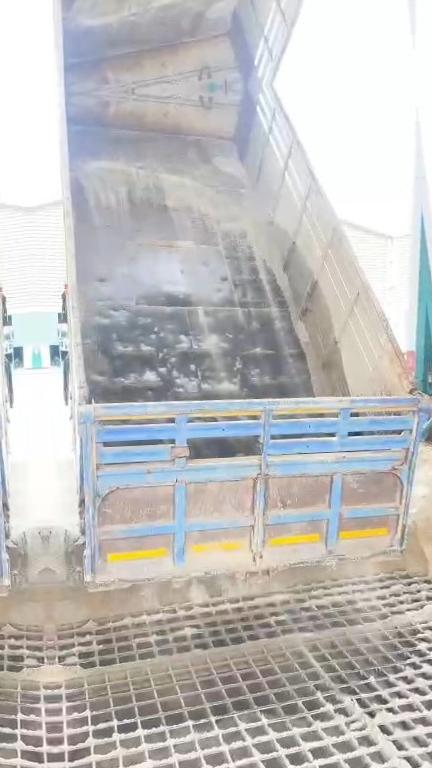sand: (87, 162, 348, 396), (47, 508, 432, 632), (109, 604, 432, 670), (350, 701, 412, 768), (51, 663, 107, 684), (212, 154, 241, 177)
